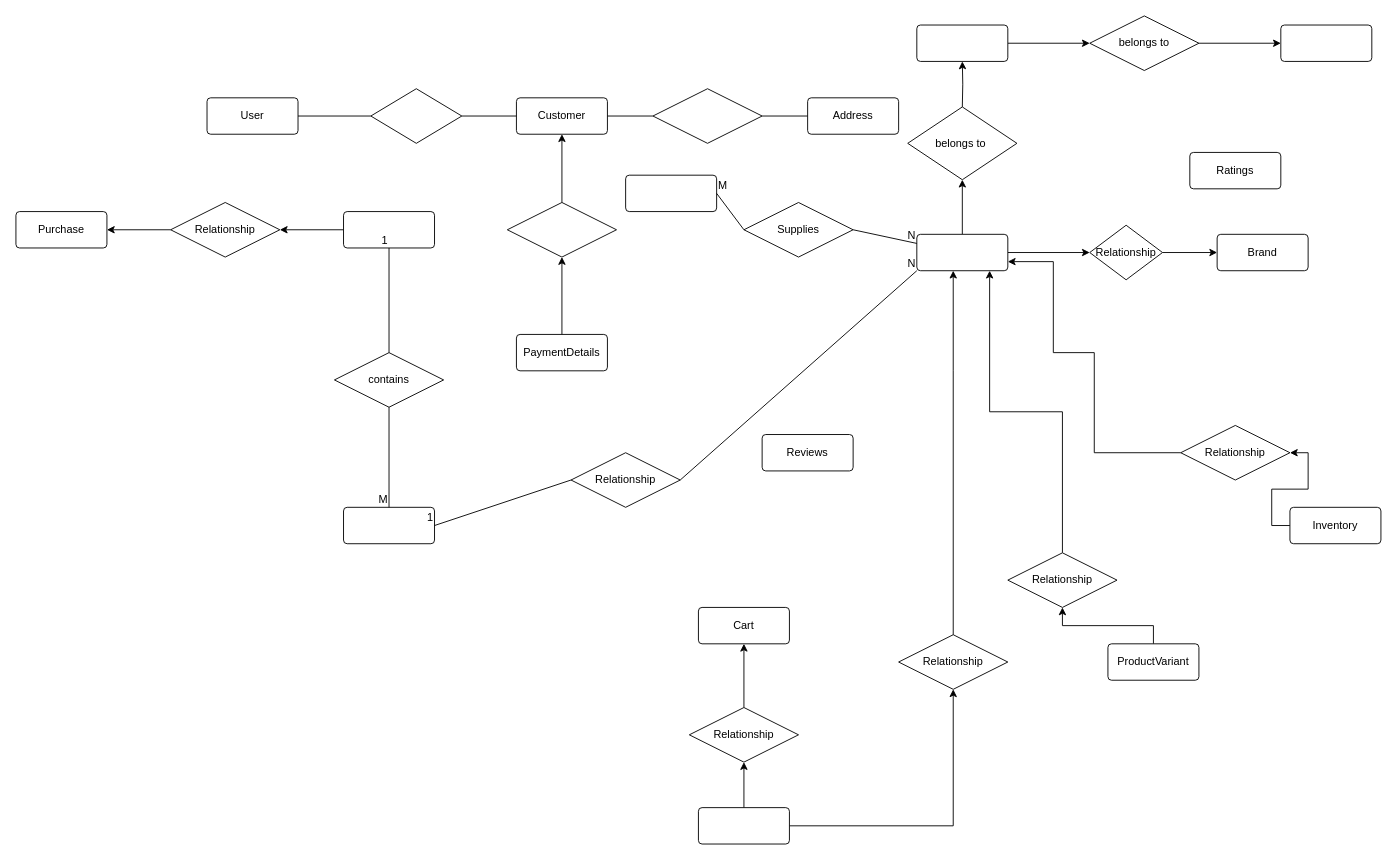
The diagram is 1397 pixels wide and 860 high, and some of its shapes have lost their labels. The shapes that lost their labels are listed below. From the top down, each one's centre as x and y in pixels, then its label:
At [962,42]: "Subcategory".
At [1326,42]: "Category".
At [416,115]: "Is A".
At [707,115]: "has".
At [671,193]: "Supplier".
At [389,229]: "Order".
At [561,229]: "had".
At [962,252]: "Product".
At [389,525]: "OrderItem".
At [743,825]: "CartItem".
